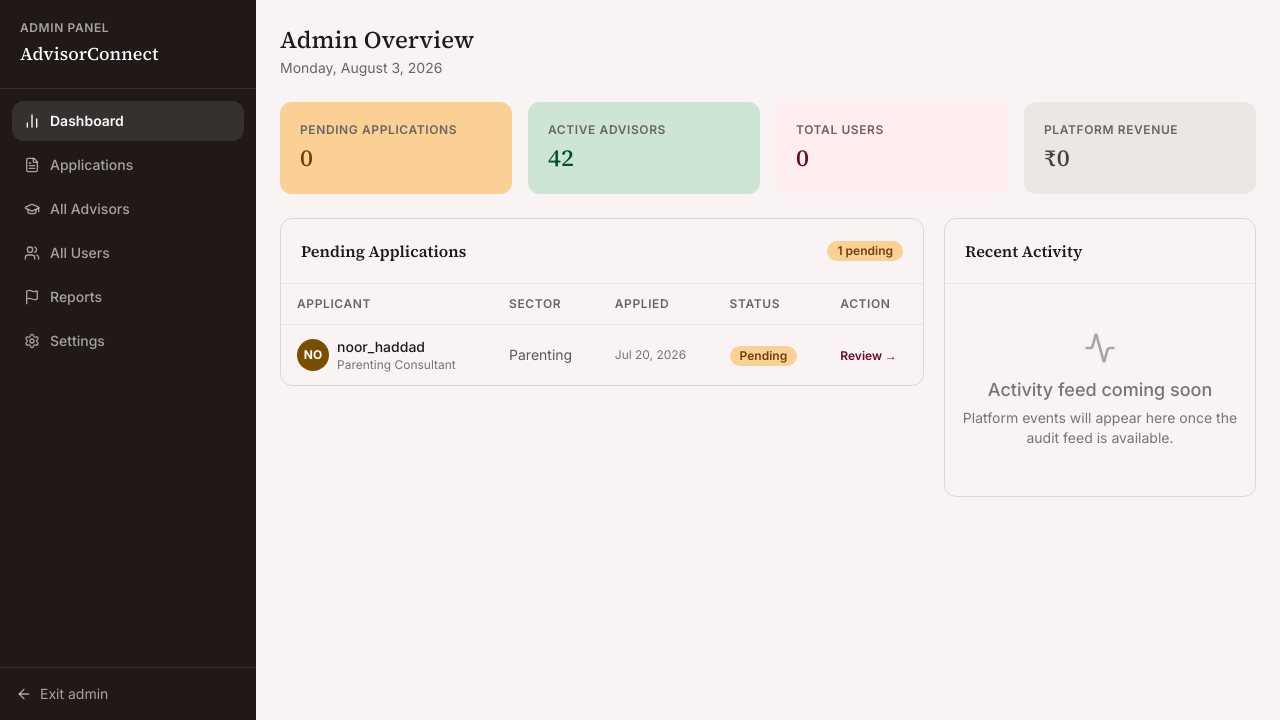
Test case: AdminDashboardPage › applications table › shows an empty state rather than a blank table when a filter matches nothing
This screenshot has width=1280, height=720.
Click the button "Applications".
click(128, 165)  # box [12,145,244,185]
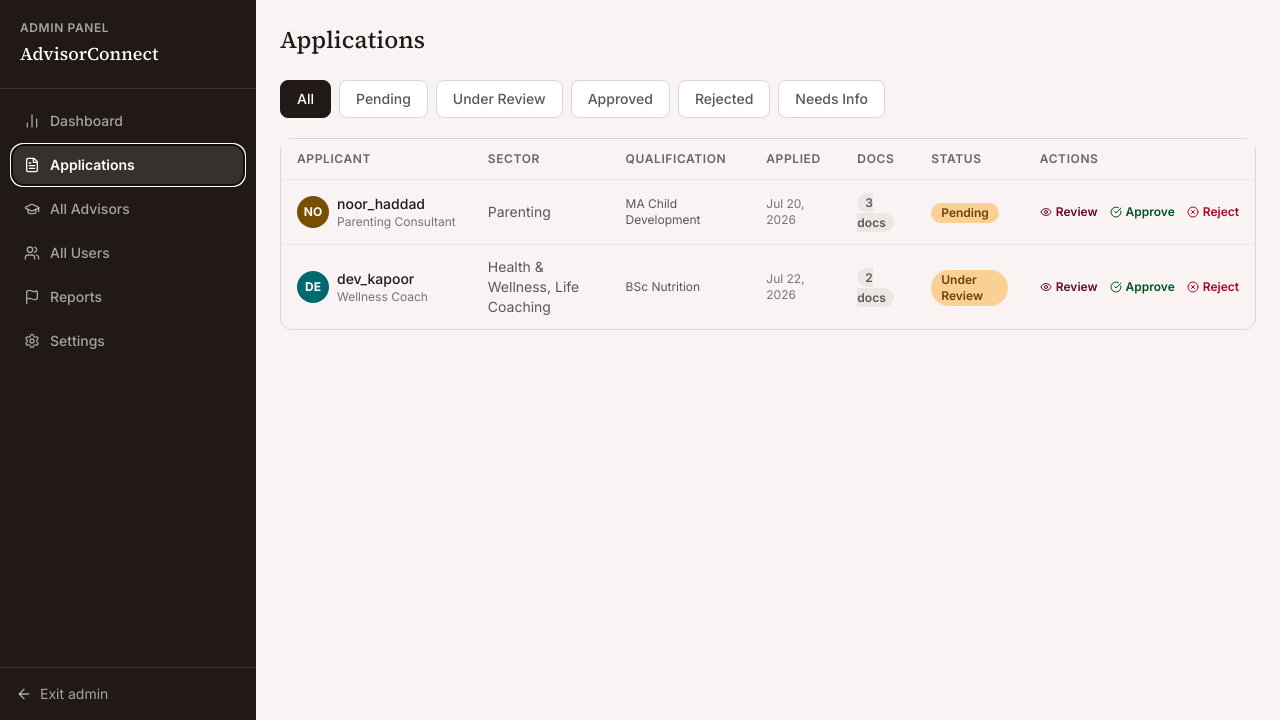
Click the button "Rejected".
click(724, 99)  # box [678,80,770,118]
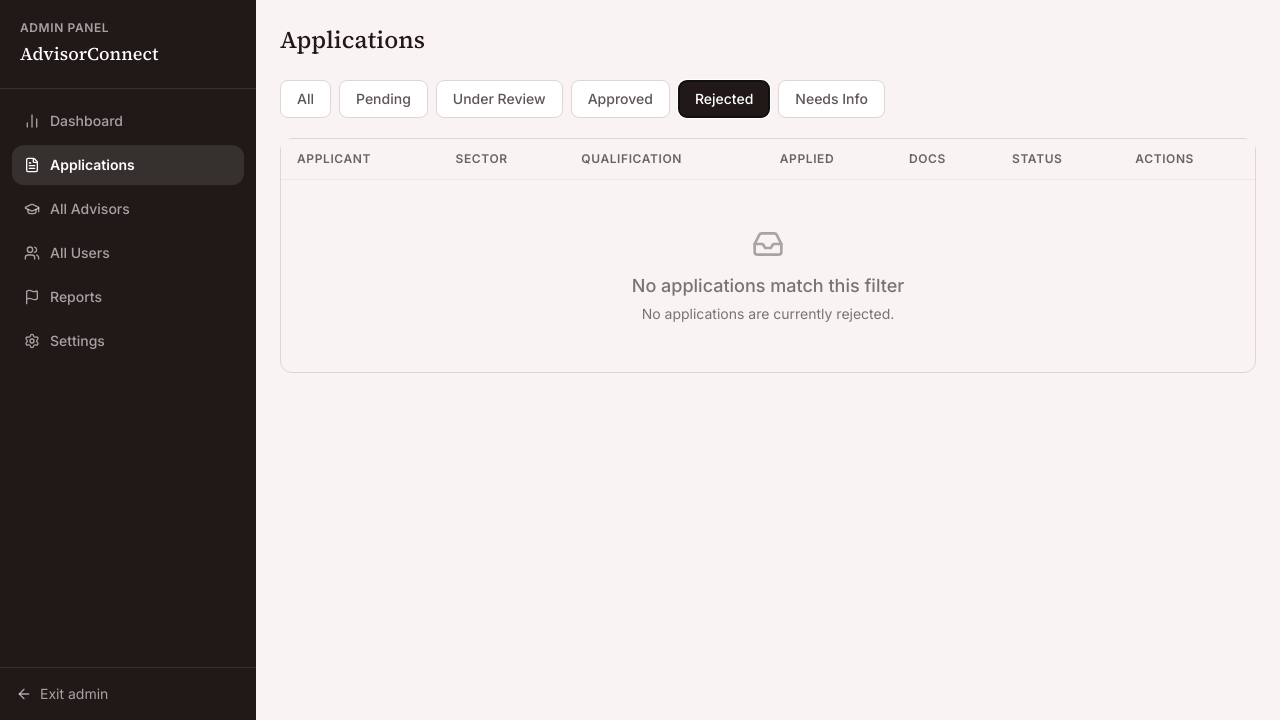
Expected: the text "No applications match this filter" is shown, [632,275,904,296]
